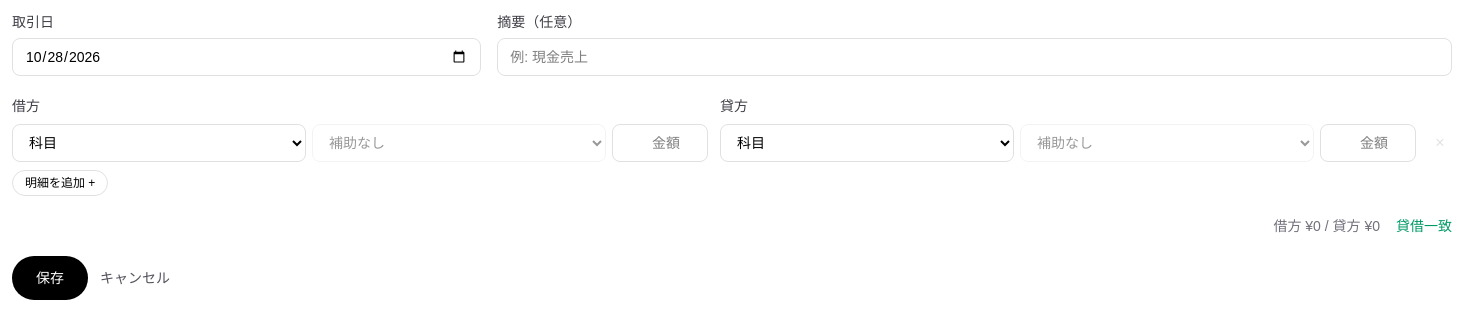
JournalForm › 金額を入力すると貸借の一致/不一致が切り替わる
Expected: the text "貸借一致" is shown, [1396,216,1452,236]
Type "1000" into the 1st number field with placeholder "金額".
click(660, 143); type("1000")  # box [612,124,708,162]
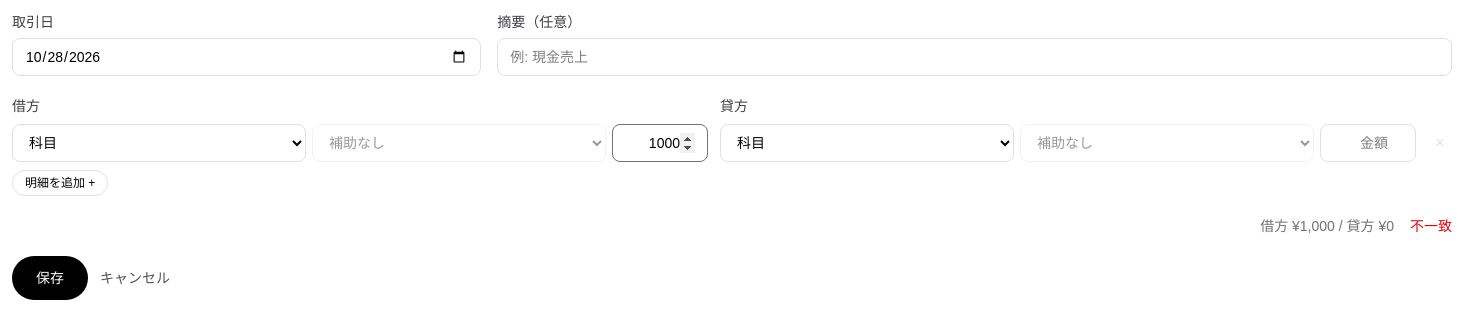
Expected: the text "不一致" is shown, [1410,216,1452,236]
Type "1000" into the number field with placeholder "金額".
click(1368, 143); type("1000")  # box [1320,124,1416,162]
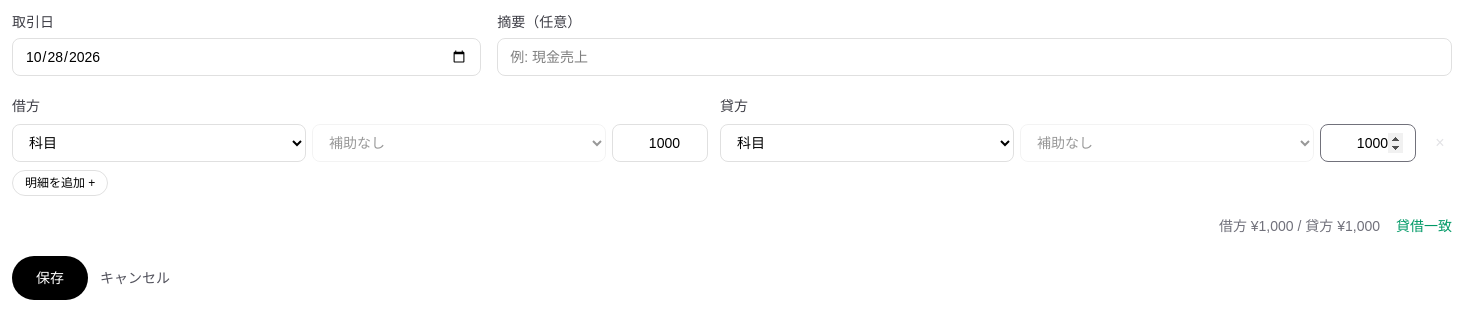
Expected: the text "貸借一致" is shown, [1396,216,1452,236]
